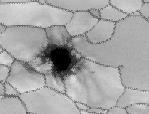good_void: (34, 35, 86, 85)
